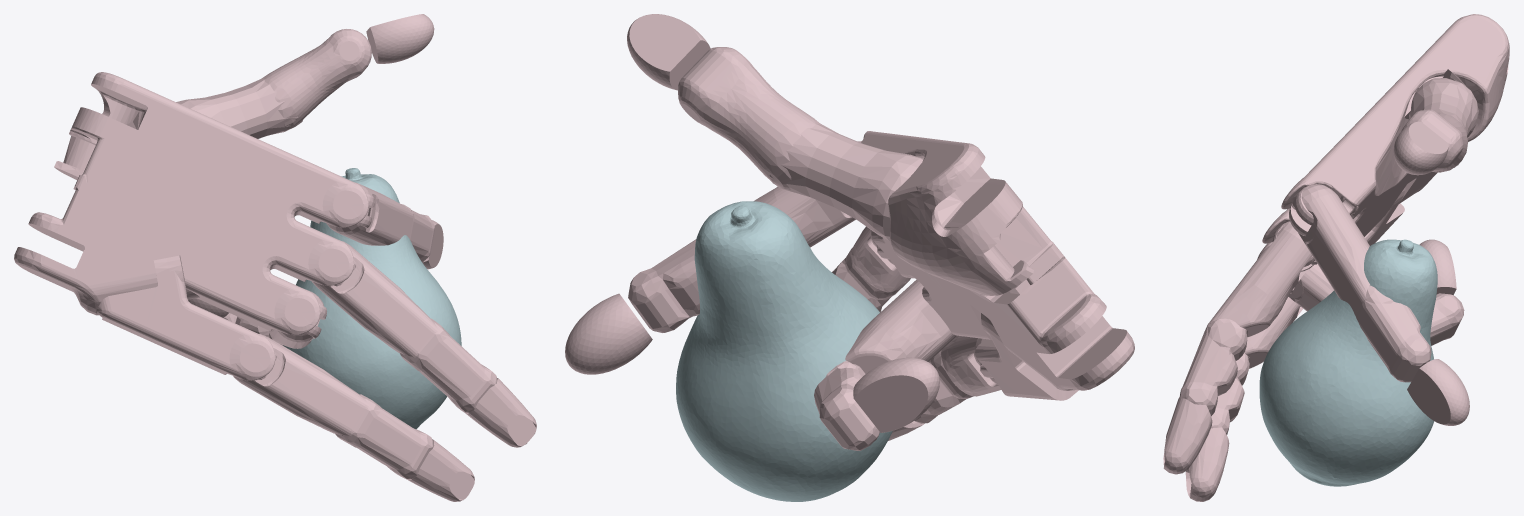
The model's file is grasp_3.glb.
3 views of the same model, side by side, from view 1: azimuth 30°, elevation 25°; view 2: azimuth 150°, elevation 25°; view 3: azimuth 270°, elevation 25° (orthographic). The views are drawn at different scales.
Visible parts, largest first — view 1: world; view 2: world; view 3: world.
Part boxes in pixels (x1,y1,x2,y2): world: (14,14,536,501); world: (565,14,1134,501); world: (1163,14,1509,501).
Bounding box in the file's own units: 0.1851 × 0.1617 × 0.1276.
